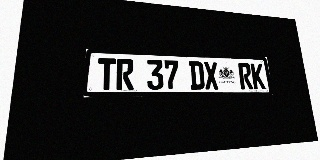3: (147, 60, 164, 90)
7: (163, 60, 180, 90)
D: (189, 61, 205, 90)
K: (250, 63, 266, 89)
R: (116, 58, 134, 90), (238, 63, 253, 89)
T: (97, 58, 116, 90)
X: (203, 62, 219, 90)
